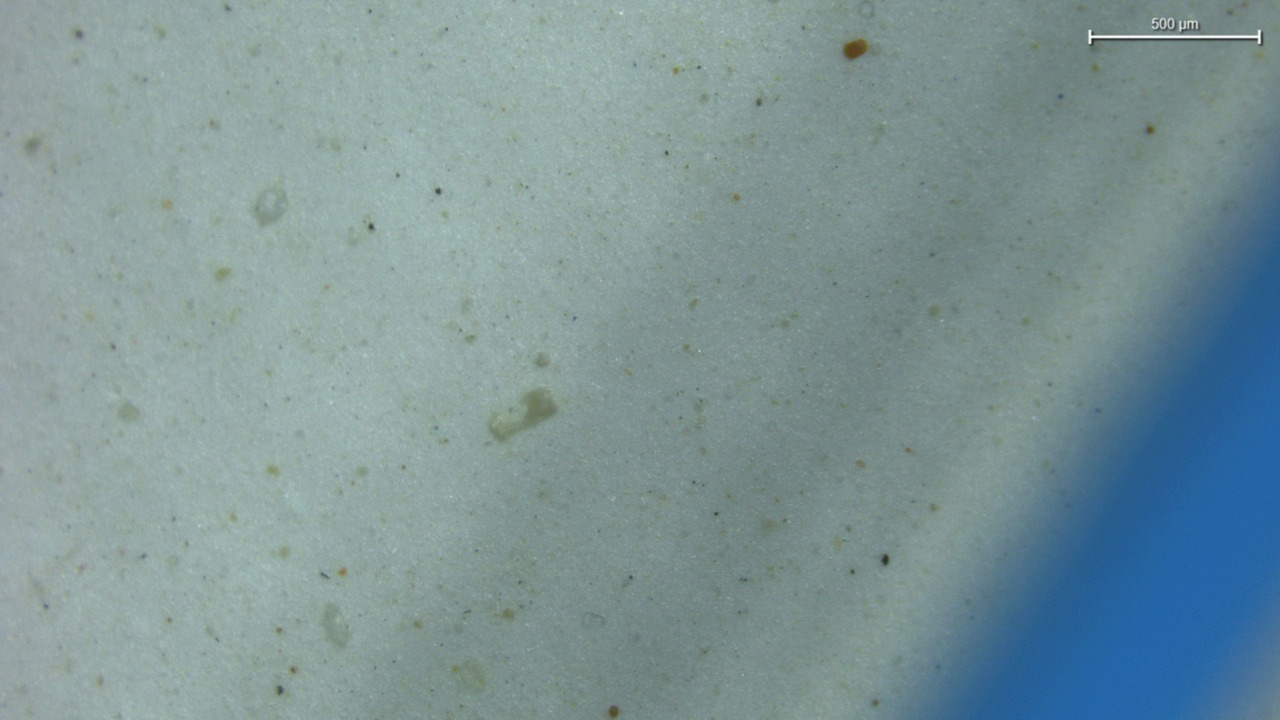microplastic_fragment: (489, 388, 557, 441)
